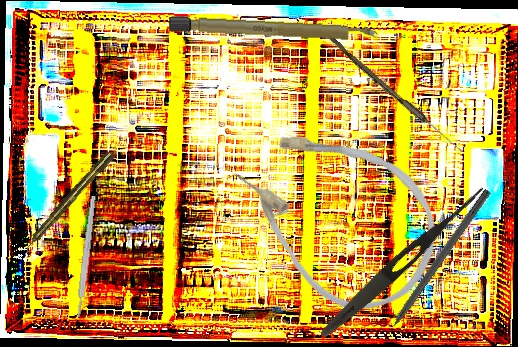Cannula: (207, 88, 467, 338)
Dressing Forceps: (316, 180, 489, 343)
Handpiece: (20, 149, 116, 255)
Hook Surgical: (376, 187, 492, 346)
Scalpel Handle: (167, 15, 381, 43), (75, 195, 97, 318)
Surgical Spoon: (321, 31, 466, 155)
